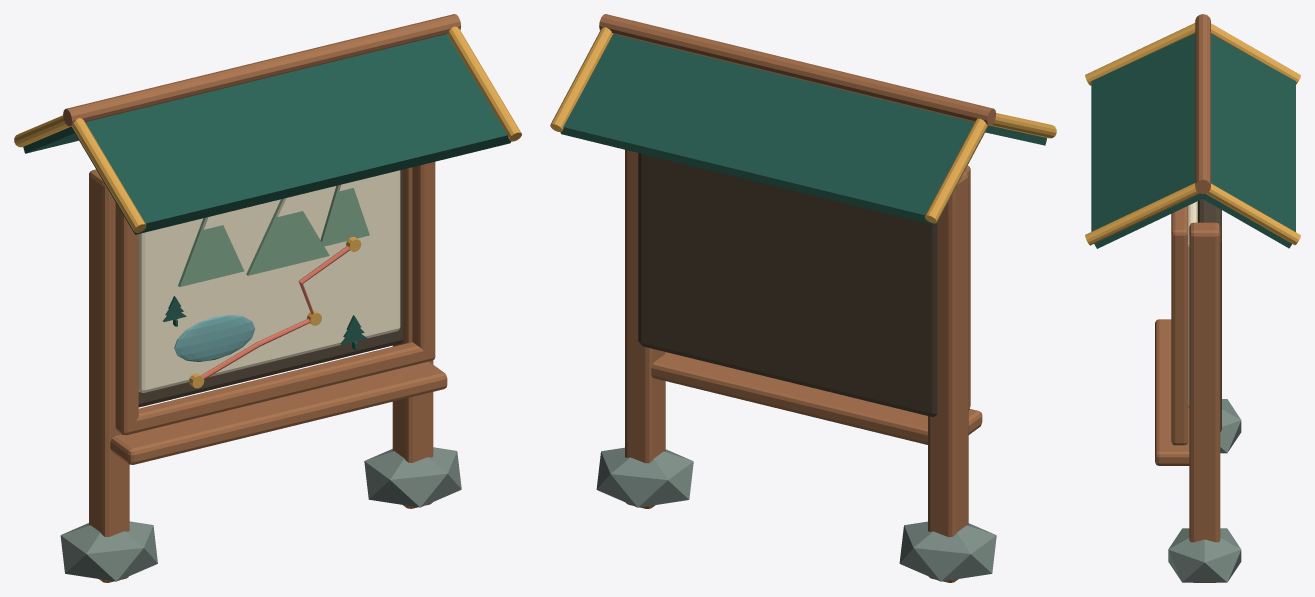
File: 12_ranger_relief_map_station.glb
3 views of the same model, side by side, from view 1: azimuth 30°, elevation 25°; view 2: azimuth 150°, elevation 25°; view 3: azimuth 270°, elevation 25° (orthographic). The views are drawn at different scales.
Visible parts, largest first — view 1: 12_ranger_relief_map_station; view 2: 12_ranger_relief_map_station; view 3: 12_ranger_relief_map_station.
Boxes of the visible parts, left/top/right/bottom form: 12_ranger_relief_map_station: left=14, top=14, right=521, bottom=582; 12_ranger_relief_map_station: left=550, top=14, right=1056, bottom=582; 12_ranger_relief_map_station: left=1085, top=14, right=1300, bottom=582.
Bounding box in the file's own units: 2.3 × 2.7 × 1.25.
